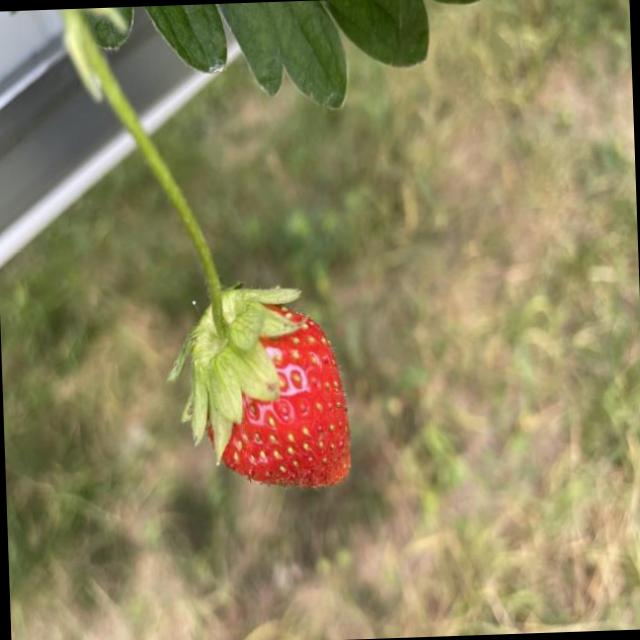stem: (57, 7, 295, 458)
strawberryR: (222, 322, 350, 486)
